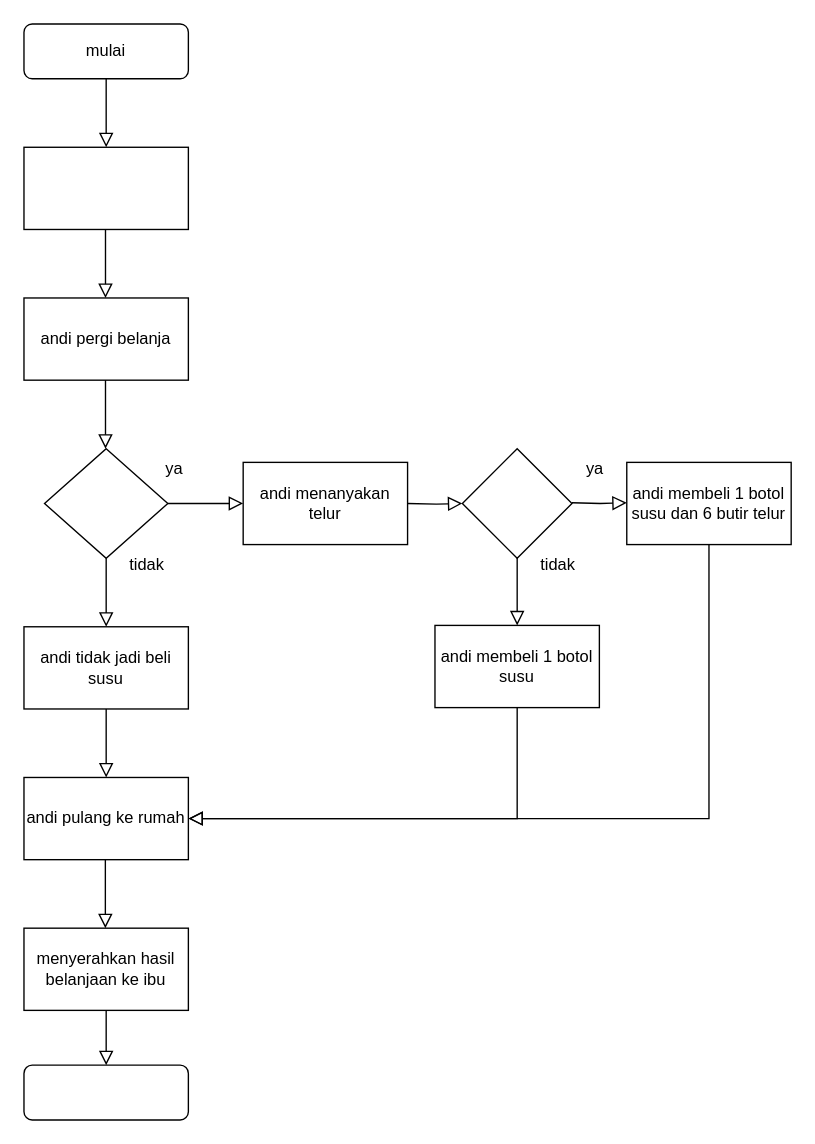
Some shapes in this 815 by 1144 pixel diagram are drawn without their labels. Each missing label, with the centre of its shape:
"apakah ada susu?" goes at [105,502].
"apakah ada telur?" goes at [516,502].
"ibu menyuruh andi belanja" goes at [105,187].
"selesai" goes at [105,1092].
